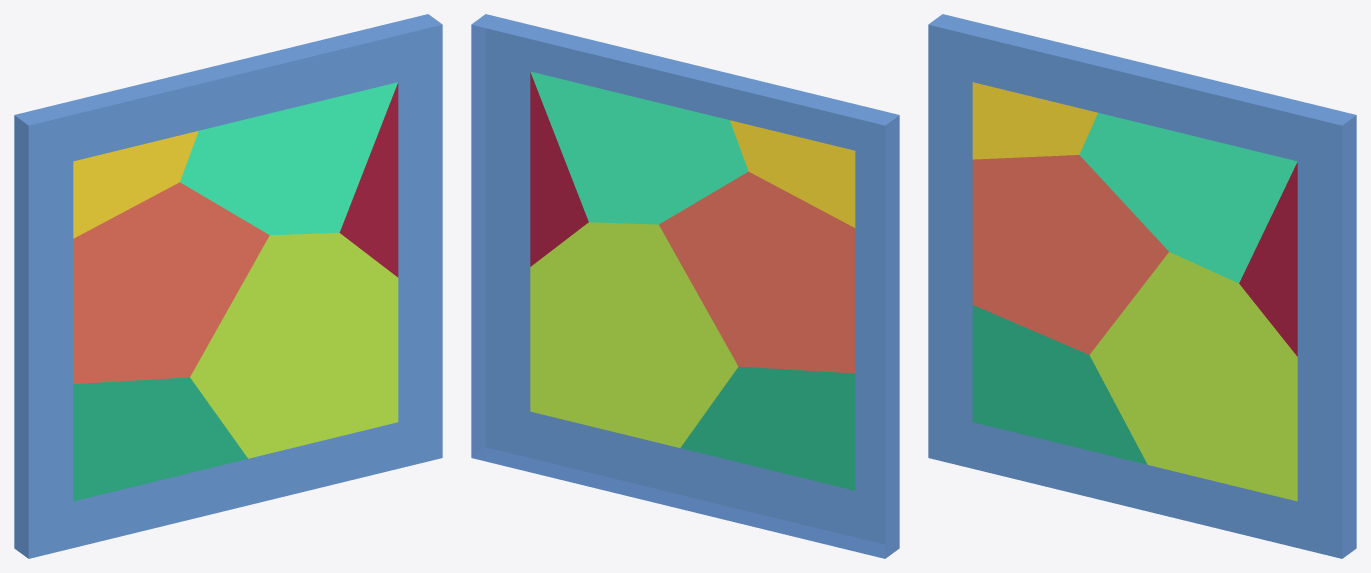
The model's file is WallDeco.glb.
3 renders of one model, left to right at view 1: azimuth 30°, elevation 25°; view 2: azimuth 150°, elevation 25°; view 3: azimuth 330°, elevation 25°, orthographic.
Visible parts, largest first — view 1: SI_Prop_WallDeco_01; view 2: SI_Prop_WallDeco_01; view 3: SI_Prop_WallDeco_01.
Part boxes in pixels (bbox=[...]): SI_Prop_WallDeco_01: bbox=[14, 14, 442, 558]; SI_Prop_WallDeco_01: bbox=[471, 14, 899, 558]; SI_Prop_WallDeco_01: bbox=[928, 14, 1356, 558].
Bounding box in the file's own units: 0.01 × 0.01 × 0.000608.
1 material, 1 textured.
